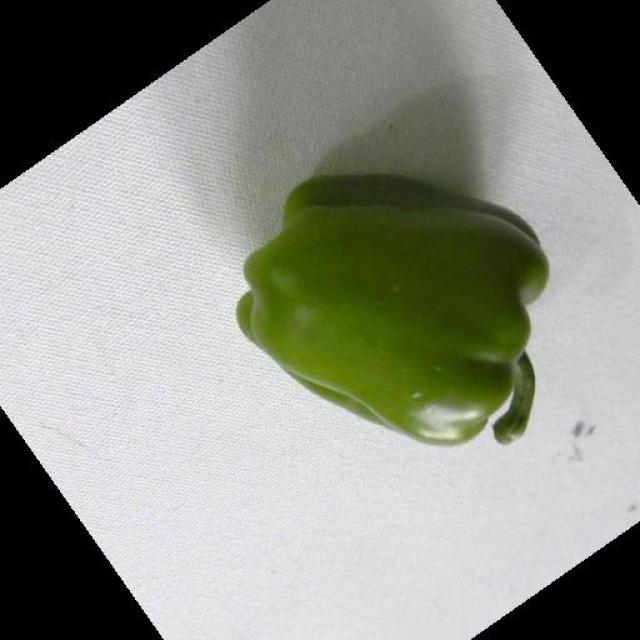Fresh_Capsicum: (235, 166, 550, 462)
